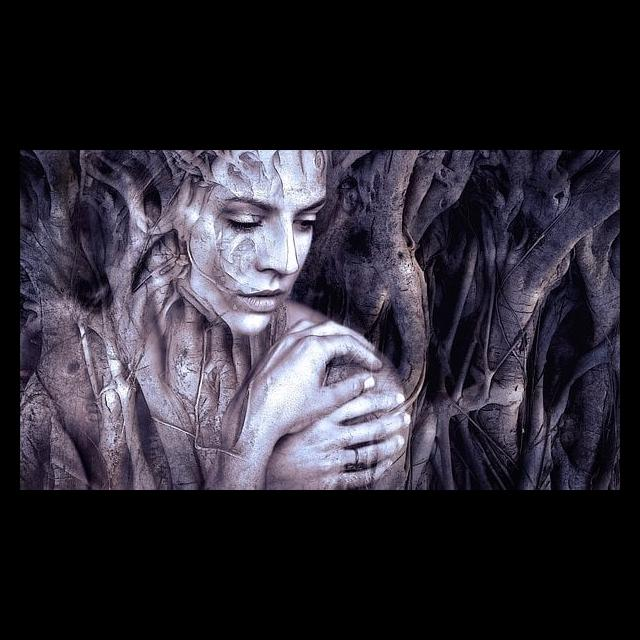female: (139, 150, 358, 344)
